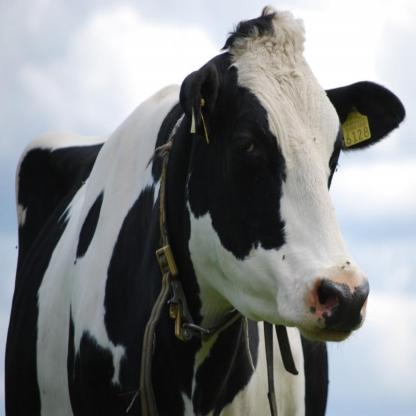cow: (6, 8, 405, 416)
